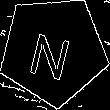N_N: (29, 21, 79, 80)
